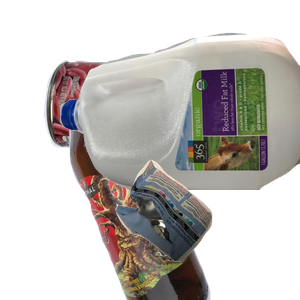glass: (65, 120, 300, 300)
metal: (41, 58, 240, 207)
plastic: (60, 30, 300, 210)
trash: (113, 157, 300, 300)
